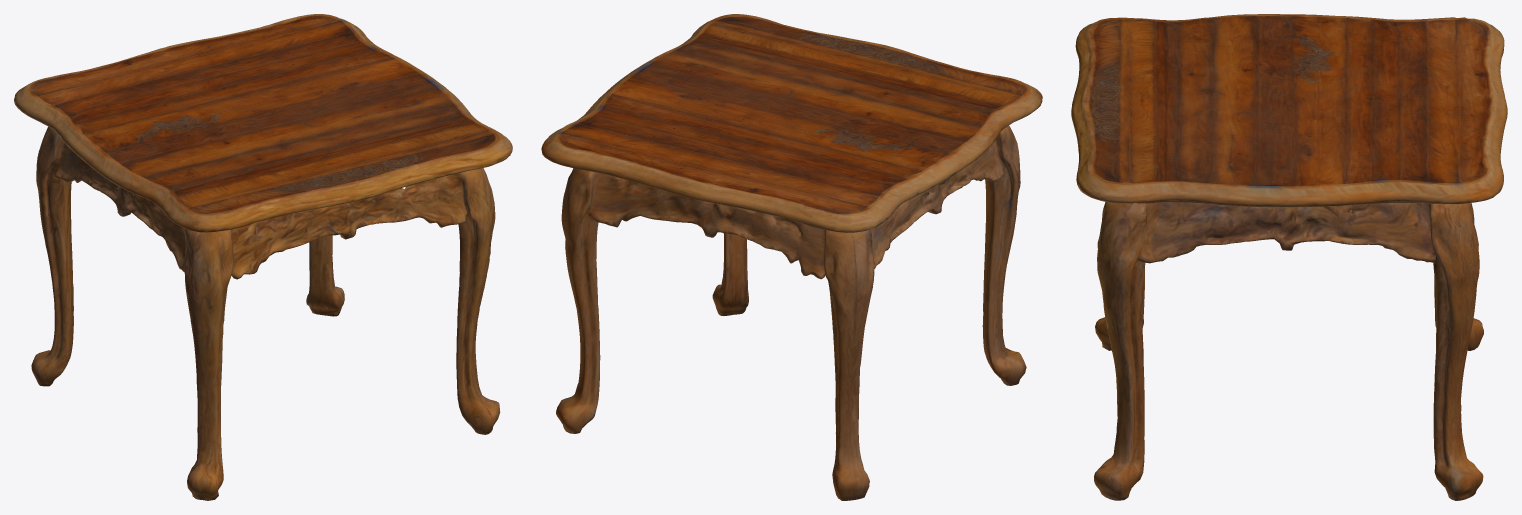
File: meshy_01971a4a-49b4-77bd-bfef-8825baafea9e.glb
The picture shows the model from 3 angles, left to right: view 1: azimuth 30°, elevation 25°; view 2: azimuth 150°, elevation 25°; view 3: azimuth 270°, elevation 25°; orthographic projection. The views are drawn at different scales.
Visible parts, largest first — view 1: file1; view 2: file1; view 3: file1.
Part boxes in pixels (left/top/right/bottom): file1: left=14, top=14, right=512, bottom=500; file1: left=541, top=14, right=1042, bottom=500; file1: left=1071, top=14, right=1507, bottom=500.
Bounding box in the file's own units: 2 × 1.62 × 2.
1 material, 1 textured.
